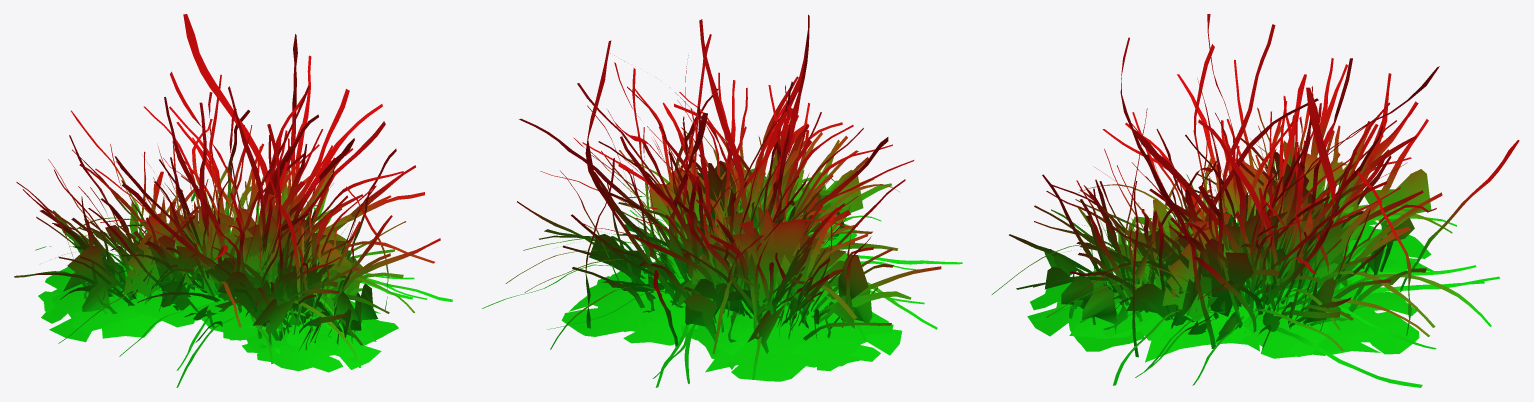
File: Wild Grass_LOD0_Var4_vdilbaiia.fbx
3 views of the same model, side by side, from view 1: azimuth 30°, elevation 25°; view 2: azimuth 150°, elevation 25°; view 3: azimuth 270°, elevation 25° (orthographic). The views are drawn at different scales.
Visible parts, largest first — view 1: _0y33_Var4_LOD0; view 2: _0y33_Var4_LOD0; view 3: _0y33_Var4_LOD0.
Part boxes in pixels (x1,y1,x2,y2): _0y33_Var4_LOD0: (14,14,452,387); _0y33_Var4_LOD0: (482,14,962,387); _0y33_Var4_LOD0: (992,14,1519,387).
Size of the model in its own units: 106 by 66.71 by 115.
